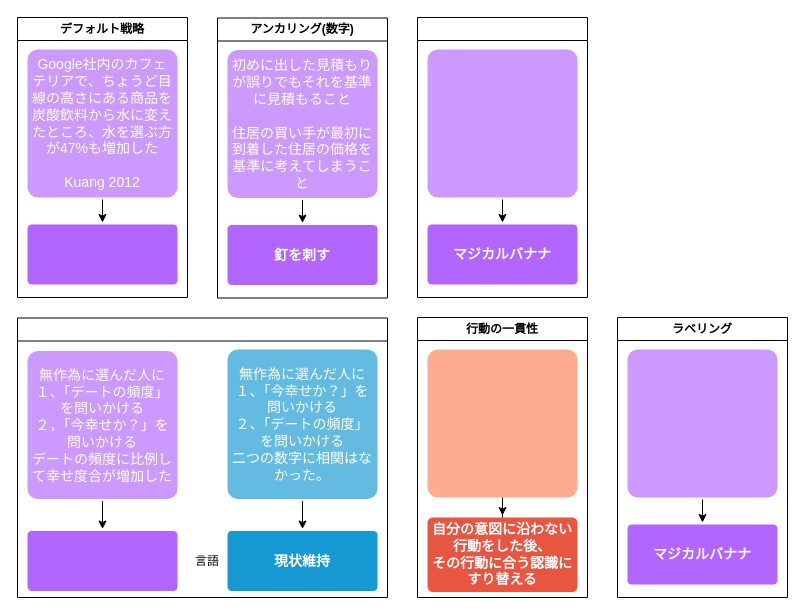
Image size: 805x615. Some labels were removed from this diagram. The box of each missing label's shape, as (x1, y1, x2, y2) in pixels:
デフォルト変更: (27, 224, 177, 284)
内面の状態によって周囲の注意の仕方が変わってしまうこと 薬物依存の患者は望む望まないにかかわらず、薬物に関連する情報を選択する: (427, 49, 577, 197)
注意バイアス(ネットワーク): (416, 16, 588, 298)
答えるのに苦労する質問は後に回すことで 答えをコントロール: (27, 530, 177, 590)
行動の一貫性の原理を 応用した技術の一つ。 相手の認識するレッテルを利用し、その通りに動かす: (627, 349, 777, 497)
質問の順番: (16, 317, 388, 598)
質問をしてしまった: (427, 349, 577, 497)
